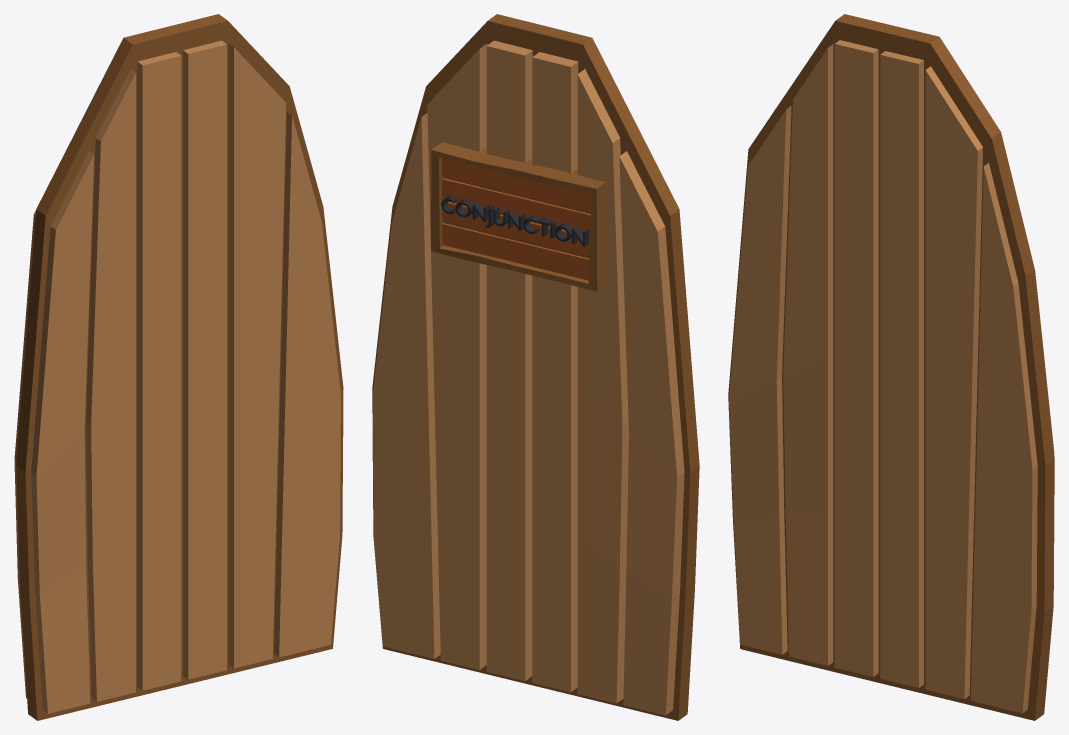
Rendered from ANDDOOR.fbx.
The picture shows the model from 3 angles, left to right: view 1: azimuth 30°, elevation 25°; view 2: azimuth 150°, elevation 25°; view 3: azimuth 330°, elevation 25°; orthographic projection.
Visible parts, largest first — view 1: Cube.225; view 2: Cube.225; view 3: Cube.225.
Part boxes in pixels (x1,y1,x2,y2): Cube.225: (14, 14, 343, 720); Cube.225: (372, 14, 699, 720); Cube.225: (728, 14, 1054, 720).
Bounding box in the file's own units: 318 × 625 × 57.15.
